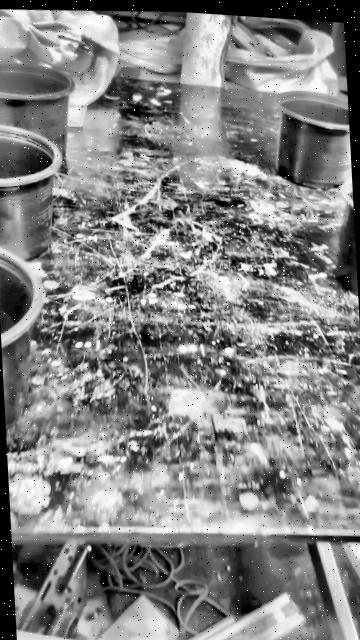pot: (0, 125, 61, 259), (0, 248, 43, 427), (275, 91, 351, 188), (0, 63, 73, 157), (336, 179, 358, 295)
